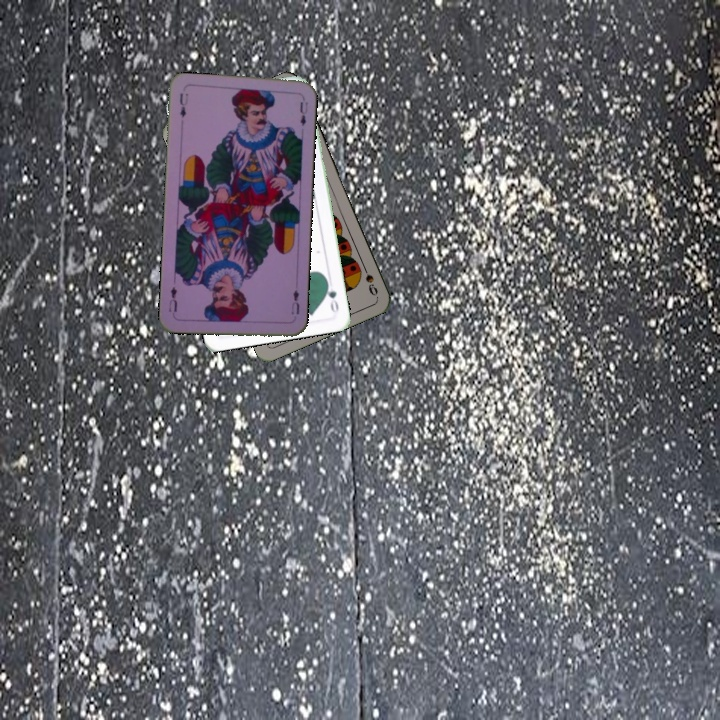EU: (287, 286, 302, 317), (176, 89, 191, 120)
GO: (322, 276, 341, 315)
S9: (358, 260, 380, 299)
